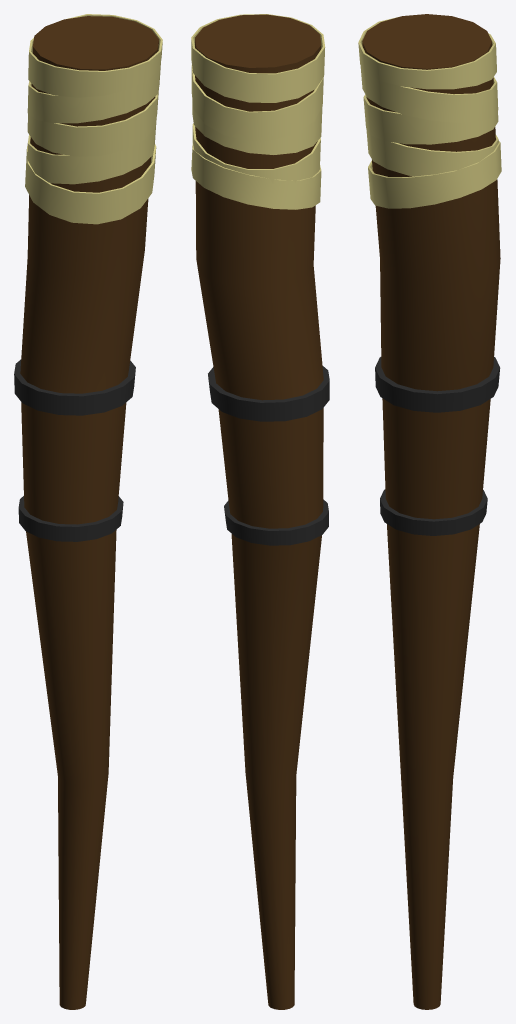
The model's file is torch.fbx.
3 renders of one model, left to right at view 1: azimuth 30°, elevation 25°; view 2: azimuth 150°, elevation 25°; view 3: azimuth 270°, elevation 25°, orthographic.
Parts seen in each view (by area): view 1: Torch; view 2: Torch; view 3: Torch.
Boxes of the visible parts, <box> form: Torch: <box>14,14,162,1009</box>; Torch: <box>191,14,329,1009</box>; Torch: <box>358,14,501,1009</box>.
Size of the model in its own units: 67.39 by 483 by 64.4.
